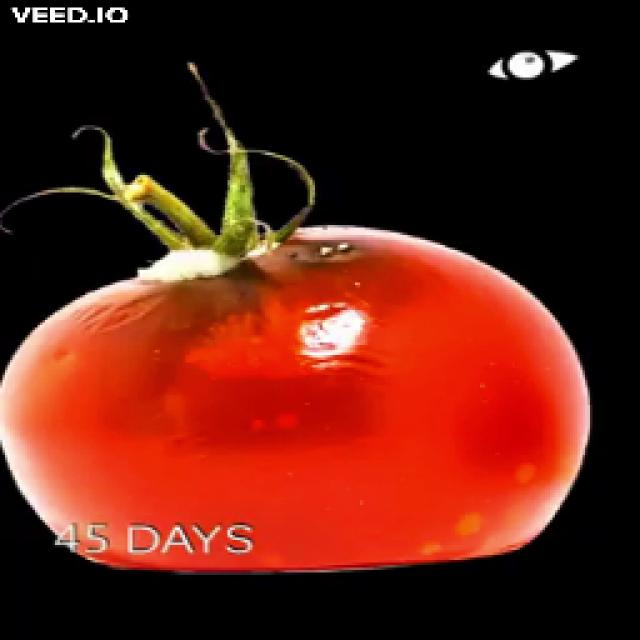overripe tomato: (3, 166, 597, 578)
